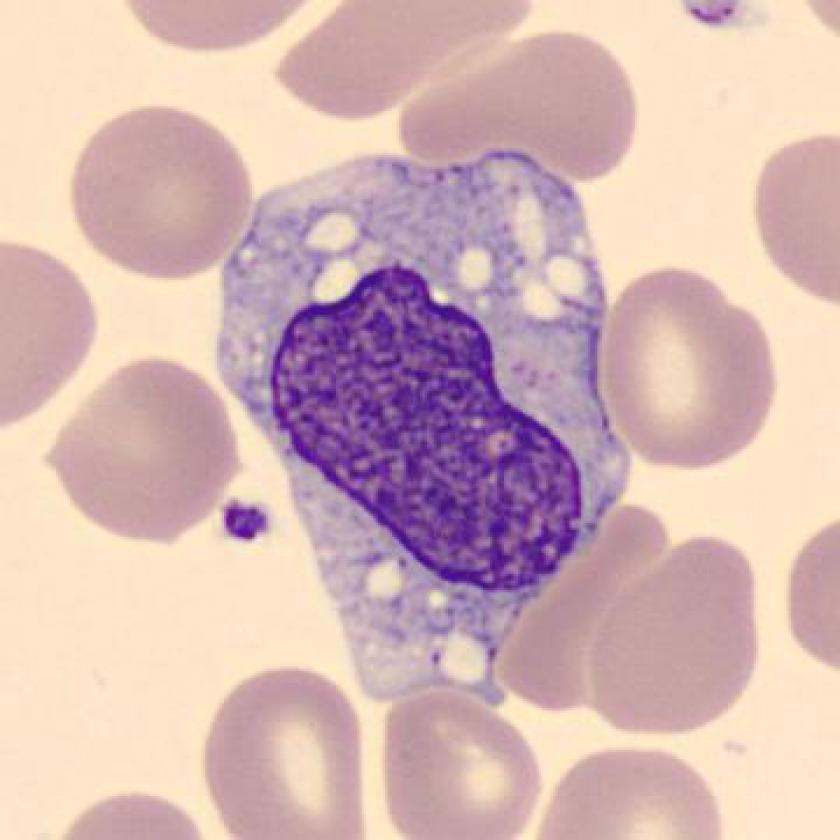monocyte: (197, 121, 652, 737)
